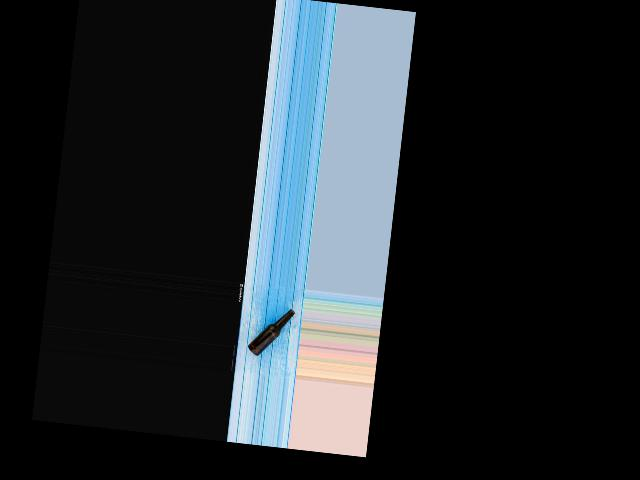beer: (246, 305, 295, 359)
